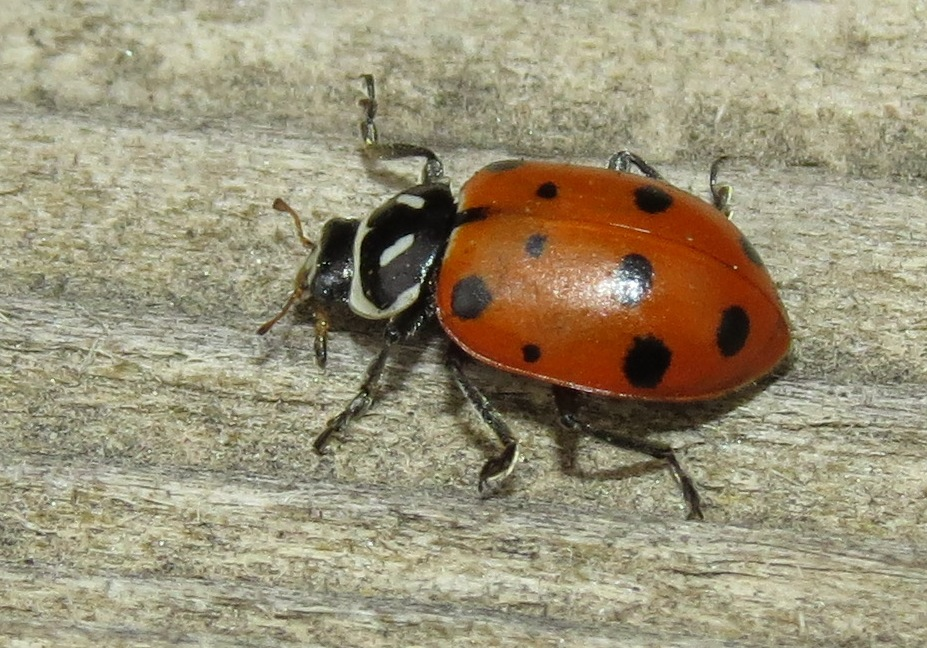convergent lady beetle: (245, 116, 797, 502)
